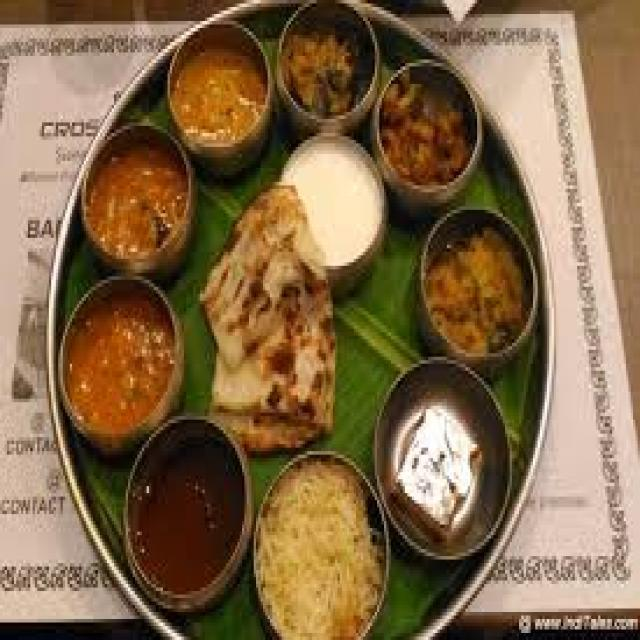dal: (74, 135, 195, 273), (289, 134, 390, 274)
papad: (199, 206, 336, 426)
sambar-rasam: (53, 277, 189, 450), (121, 431, 250, 599), (163, 25, 271, 164)
sweet: (373, 371, 510, 544), (419, 215, 541, 358), (380, 68, 480, 201)
